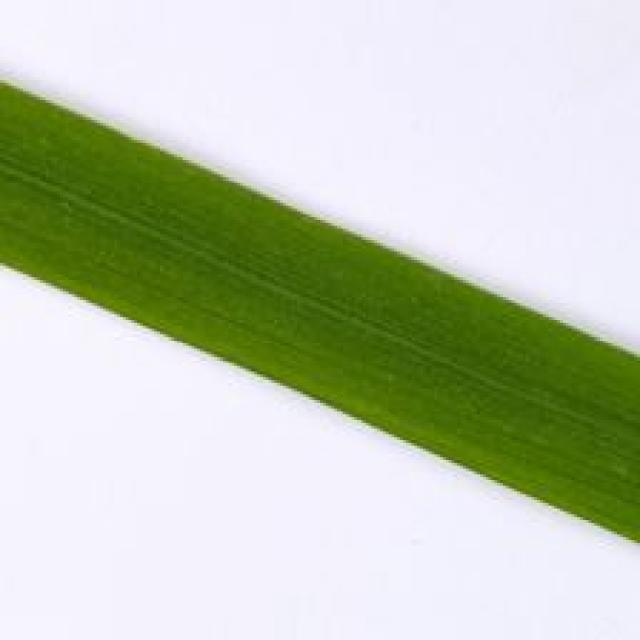Rice___Healthy_Rice_Plant: (0, 78, 637, 547)
